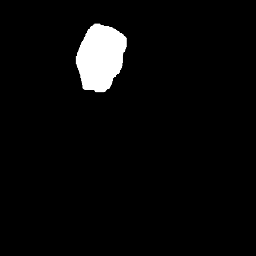mass: (75, 25, 126, 89)
